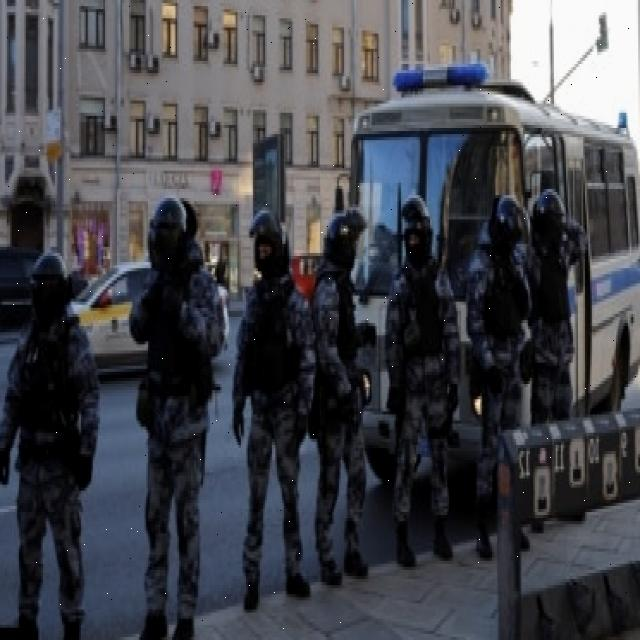police: (128, 167, 222, 640), (223, 180, 323, 621), (0, 213, 98, 640), (462, 182, 537, 580), (306, 195, 380, 584), (386, 194, 464, 556), (530, 186, 590, 441)
